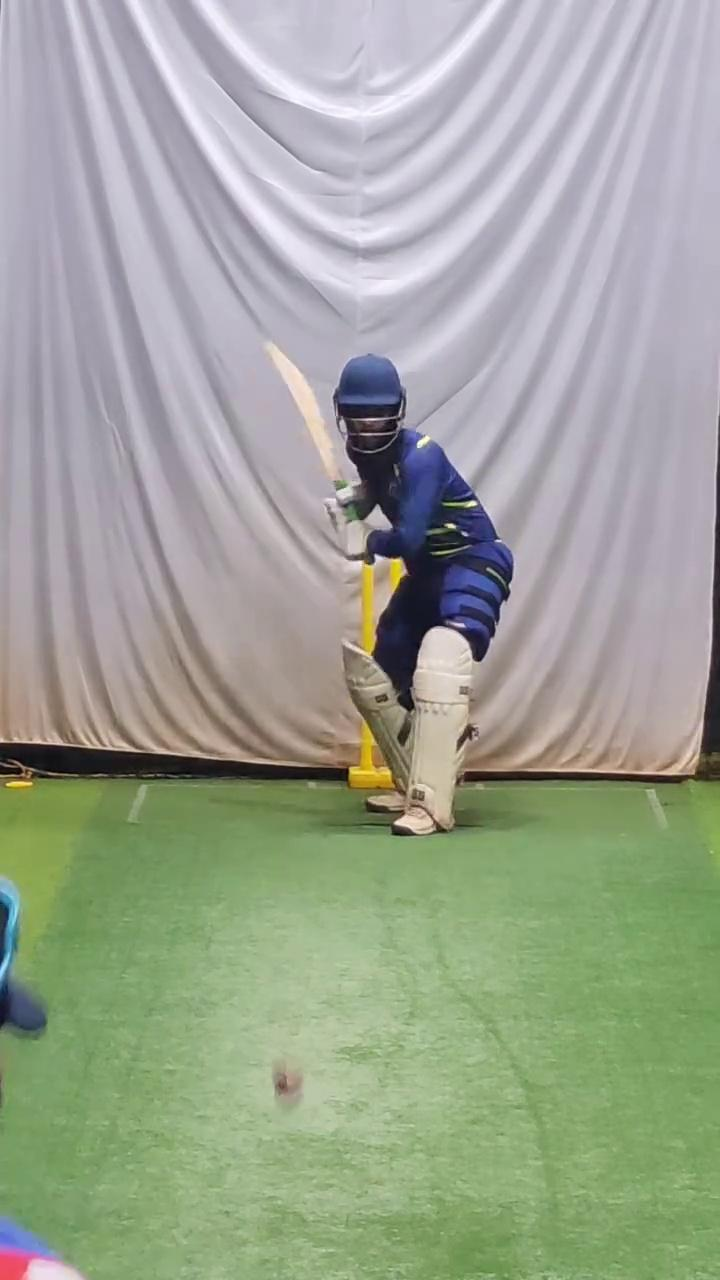bat: (262, 333, 345, 488)
